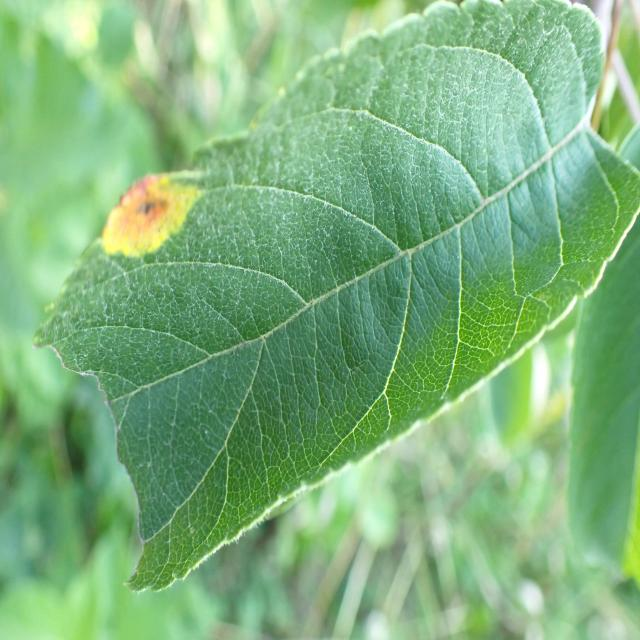Rust: (88, 150, 219, 262)
